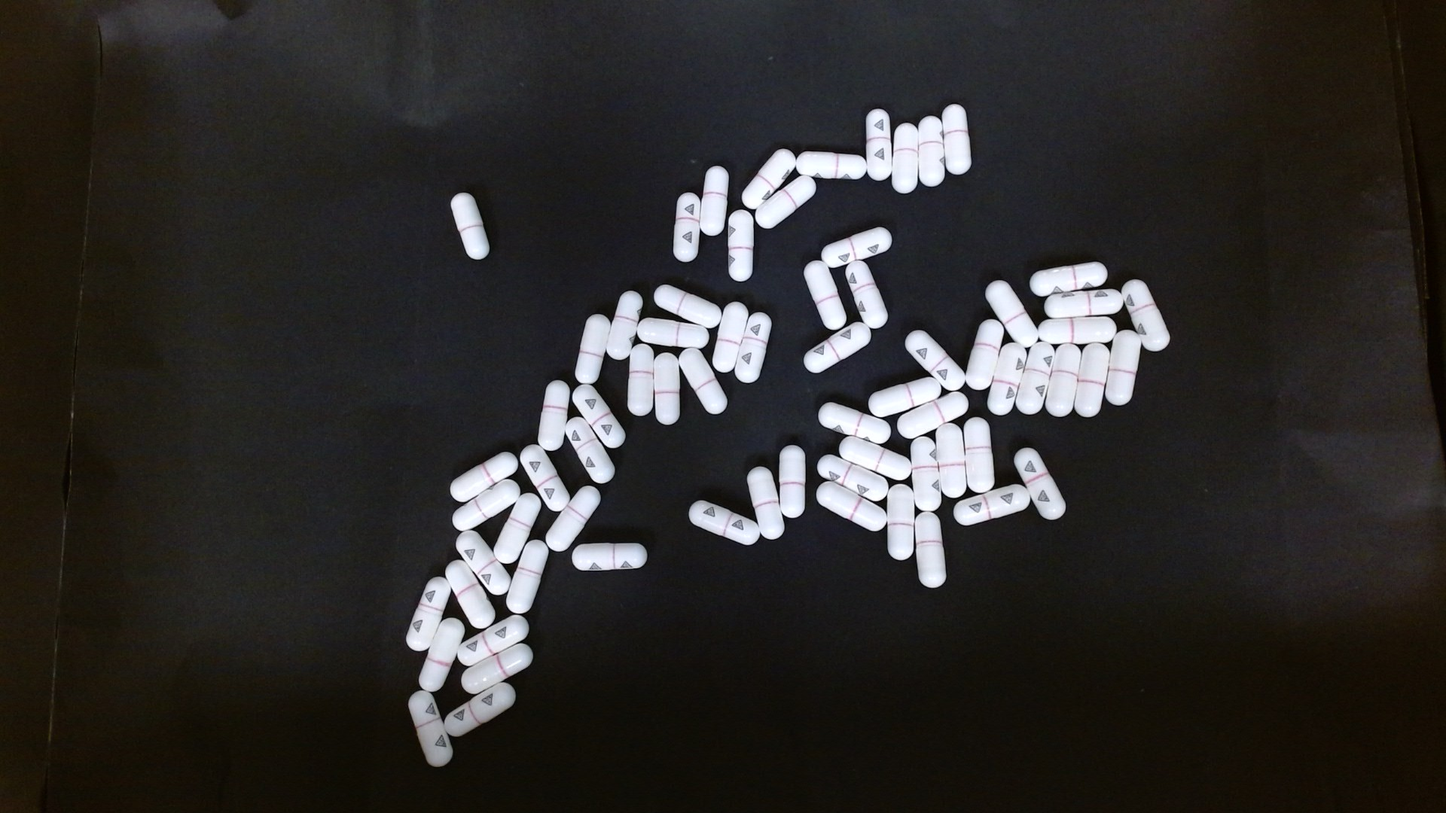Capsule: (457, 639, 534, 695), (445, 679, 518, 737), (545, 484, 603, 554), (815, 452, 893, 503), (1014, 446, 1066, 521), (450, 478, 522, 532), (455, 614, 529, 666), (450, 448, 520, 502), (563, 410, 617, 480), (905, 329, 965, 391), (445, 554, 494, 629), (492, 491, 541, 565), (571, 382, 625, 449), (456, 529, 509, 597), (1123, 278, 1171, 352), (520, 445, 573, 512), (819, 401, 896, 447), (836, 434, 911, 481), (984, 279, 1035, 348), (805, 321, 872, 373), (420, 612, 466, 687), (406, 576, 451, 652), (741, 148, 797, 209), (756, 174, 816, 230), (896, 391, 969, 437), (816, 480, 883, 530), (679, 348, 727, 417), (956, 483, 1034, 525), (409, 687, 452, 763), (505, 538, 549, 612), (688, 498, 757, 545), (820, 226, 892, 270), (803, 260, 847, 331), (843, 259, 887, 330), (870, 376, 944, 418), (987, 343, 1028, 415), (654, 283, 721, 327), (732, 311, 771, 385), (964, 319, 1004, 391), (1105, 329, 1142, 406), (1029, 261, 1106, 297), (1020, 341, 1057, 415), (713, 302, 750, 375), (746, 466, 782, 540), (1074, 342, 1110, 415), (450, 192, 489, 259), (1043, 287, 1124, 319), (606, 291, 643, 361), (1045, 344, 1080, 416), (575, 313, 610, 383), (962, 417, 993, 495), (915, 509, 946, 586), (1039, 315, 1117, 345), (886, 485, 916, 563), (936, 421, 967, 496), (538, 379, 569, 452), (639, 317, 709, 349), (572, 542, 649, 571), (941, 104, 972, 175), (652, 350, 680, 427), (796, 151, 866, 181), (779, 445, 807, 519), (910, 437, 939, 508), (700, 166, 729, 235), (627, 345, 654, 418), (727, 209, 754, 282), (917, 115, 944, 187), (892, 122, 919, 194), (865, 109, 891, 181), (673, 195, 700, 264)
